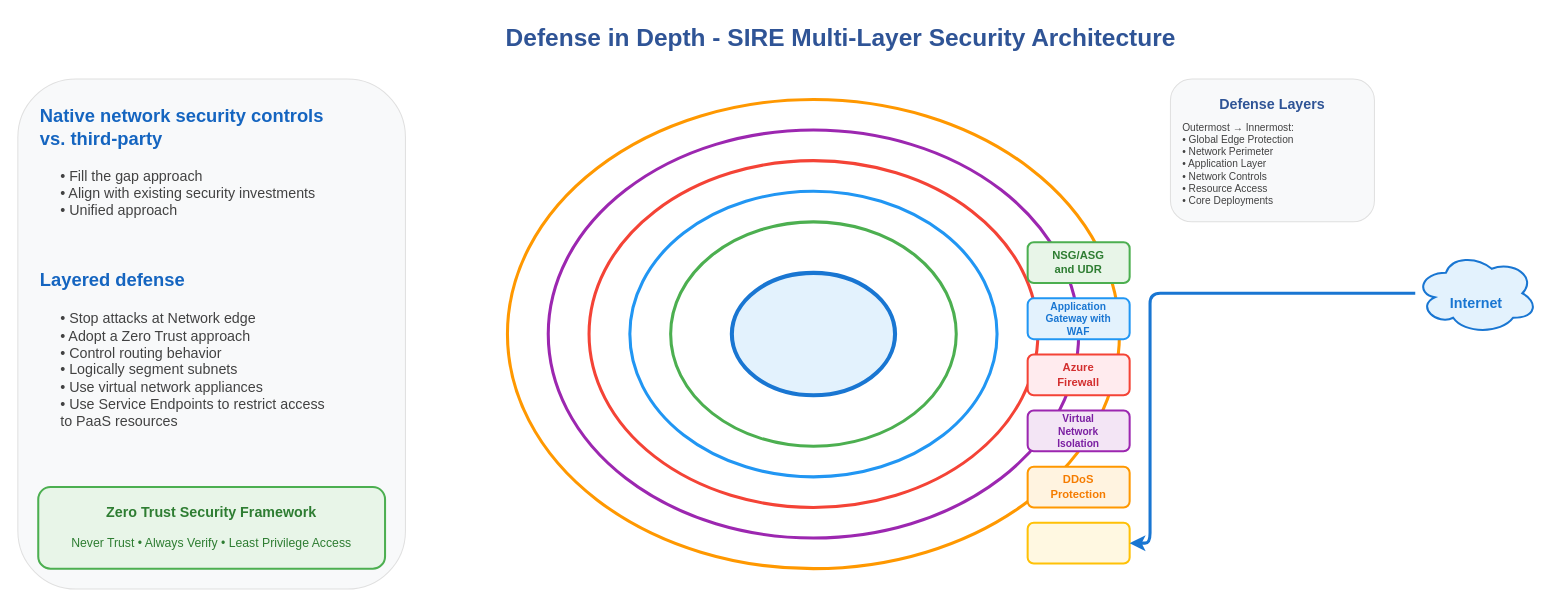
Some shapes in this 1557 by 607 pixel diagram are drawn without their labels. The centre of each missing label's shape, as x and y in pixels:
"Azure Deployments" goes at (813,333).
"Front Door with WAF" goes at (1078,542).
